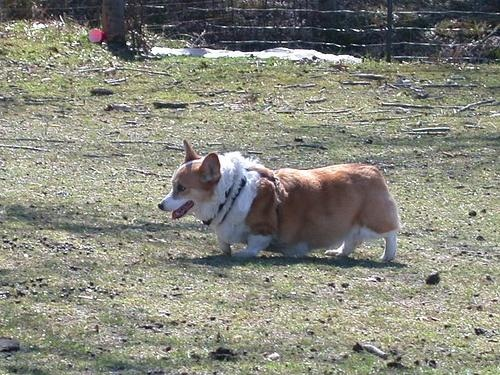dog: (160, 141, 401, 266)
